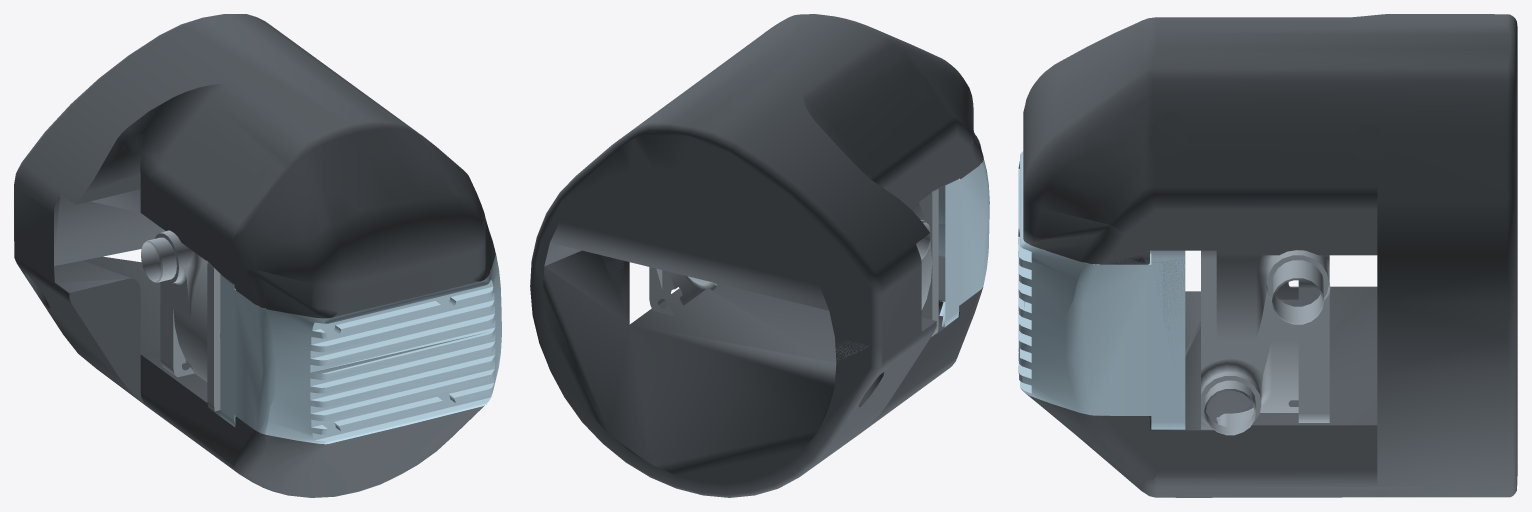
File: RightWristRollLink.obj
3 renders of one model, left to right at view 1: azimuth 30°, elevation 25°; view 2: azimuth 150°, elevation 25°; view 3: azimuth 270°, elevation 25°, orthographic. The views are drawn at different scales.
Visible parts, largest first — view 1: N17_24_P03_08_L_Wrist_Link_Cover_Inside, N17_24_P03_06_Wrist_heatsink, N17_24_P03_09_L_Wrist_Link_Cover_Outside, N17_24_P04_01_L_Motor_housing_wrist_twist; view 2: N17_24_P03_08_L_Wrist_Link_Cover_Inside, N17_24_P03_09_L_Wrist_Link_Cover_Outside, N17_24_P03_06_Wrist_heatsink, N17_24_P04_01_L_Motor_housing_wrist_twist; view 3: N17_24_P03_08_L_Wrist_Link_Cover_Inside, N17_24_P03_09_L_Wrist_Link_Cover_Outside, N17_24_P03_06_Wrist_heatsink, N17_24_P04_01_L_Motor_housing_wrist_twist.
Boxes of the visible parts, left/top/right/bottom form: N17_24_P03_08_L_Wrist_Link_Cover_Inside: left=14, top=14, right=495, bottom=318; N17_24_P03_06_Wrist_heatsink: left=220, top=252, right=501, bottom=444; N17_24_P03_09_L_Wrist_Link_Cover_Outside: left=14, top=236, right=486, bottom=497; N17_24_P04_01_L_Motor_housing_wrist_twist: left=141, top=229, right=220, bottom=411; N17_24_P03_08_L_Wrist_Link_Cover_Inside: left=531, top=14, right=983, bottom=346; N17_24_P03_09_L_Wrist_Link_Cover_Outside: left=530, top=250, right=983, bottom=497; N17_24_P03_06_Wrist_heatsink: left=938, top=137, right=989, bottom=327; N17_24_P04_01_L_Motor_housing_wrist_twist: left=649, top=189, right=938, bottom=336; N17_24_P03_08_L_Wrist_Link_Cover_Inside: left=1023, top=14, right=1517, bottom=337; N17_24_P03_09_L_Wrist_Link_Cover_Outside: left=1026, top=286, right=1517, bottom=497; N17_24_P03_06_Wrist_heatsink: left=1018, top=151, right=1185, bottom=429; N17_24_P04_01_L_Motor_housing_wrist_twist: left=1201, top=250, right=1330, bottom=435.
Bounding box in the file's own units: 0.094 × 0.0935 × 0.0957.
